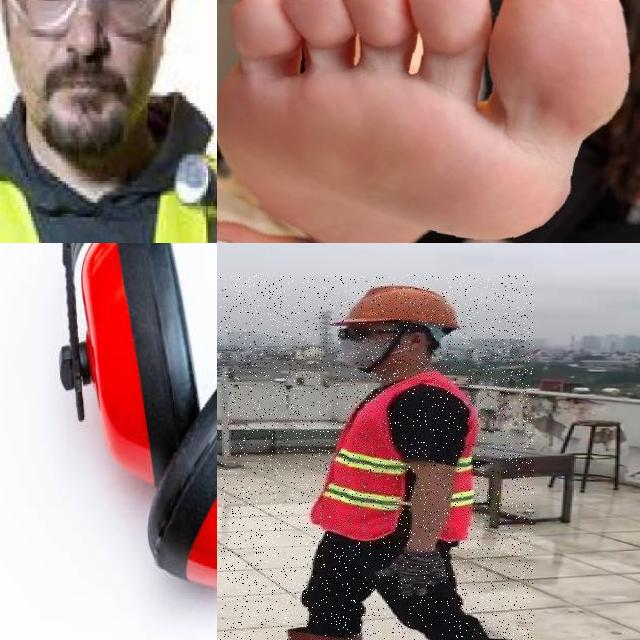Barefoots: (217, 0, 632, 243)
Ear-protection: (52, 243, 217, 594)
face_nomask: (15, 0, 159, 110)
glasses: (4, 0, 173, 33)
head_helmet: (342, 282, 467, 331)
person: (220, 275, 534, 640), (0, 0, 217, 243)
vest: (313, 374, 477, 544), (0, 166, 217, 243)
